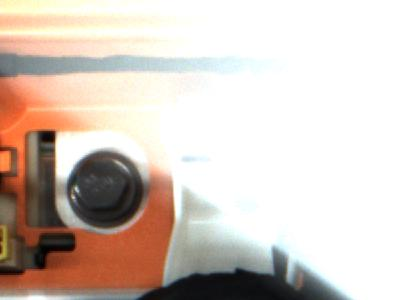nut_b: (57, 156, 156, 232)
